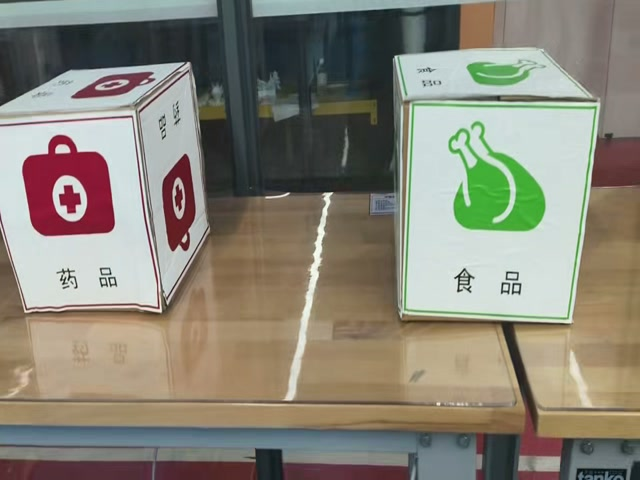Cube_food: (391, 50, 593, 108)
Cube_medicine: (1, 61, 190, 123)
